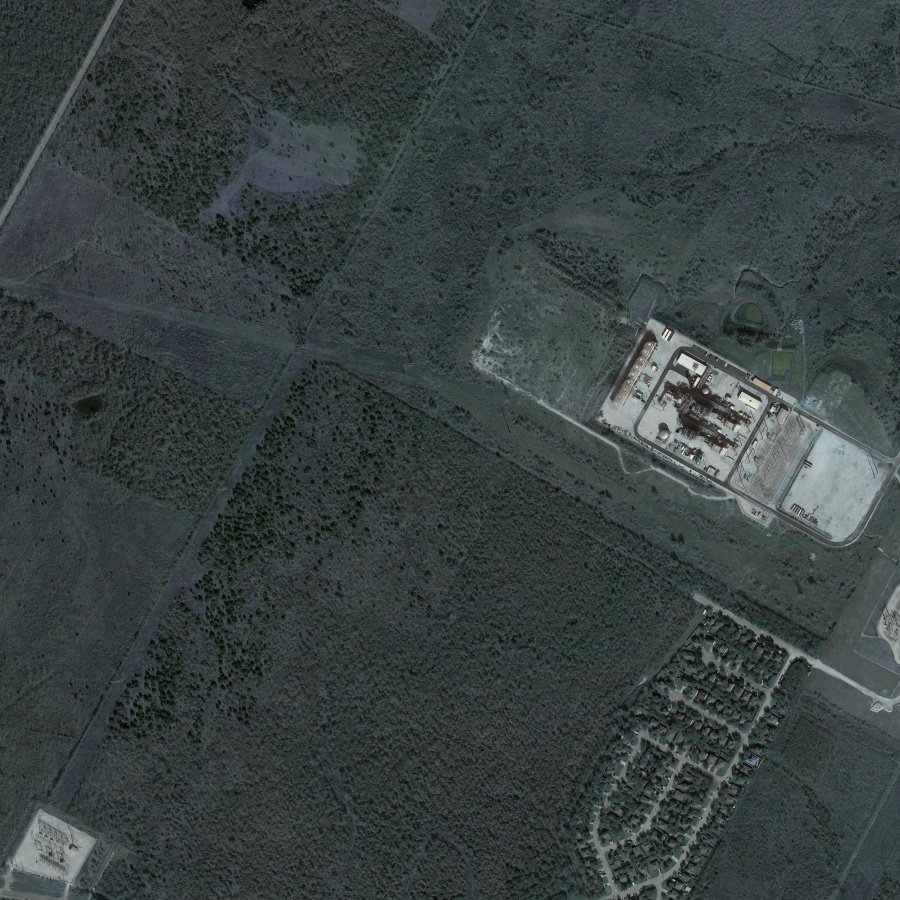PowerPlant: (601, 321, 811, 511)
